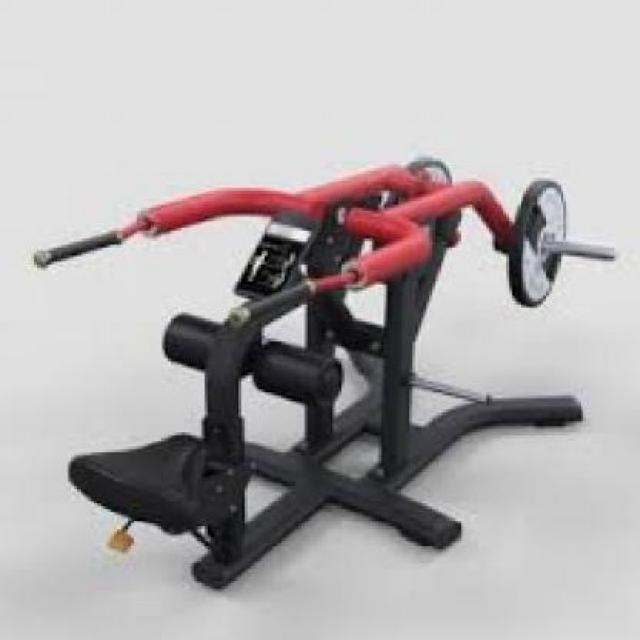seated dip machine: (21, 112, 634, 597)
